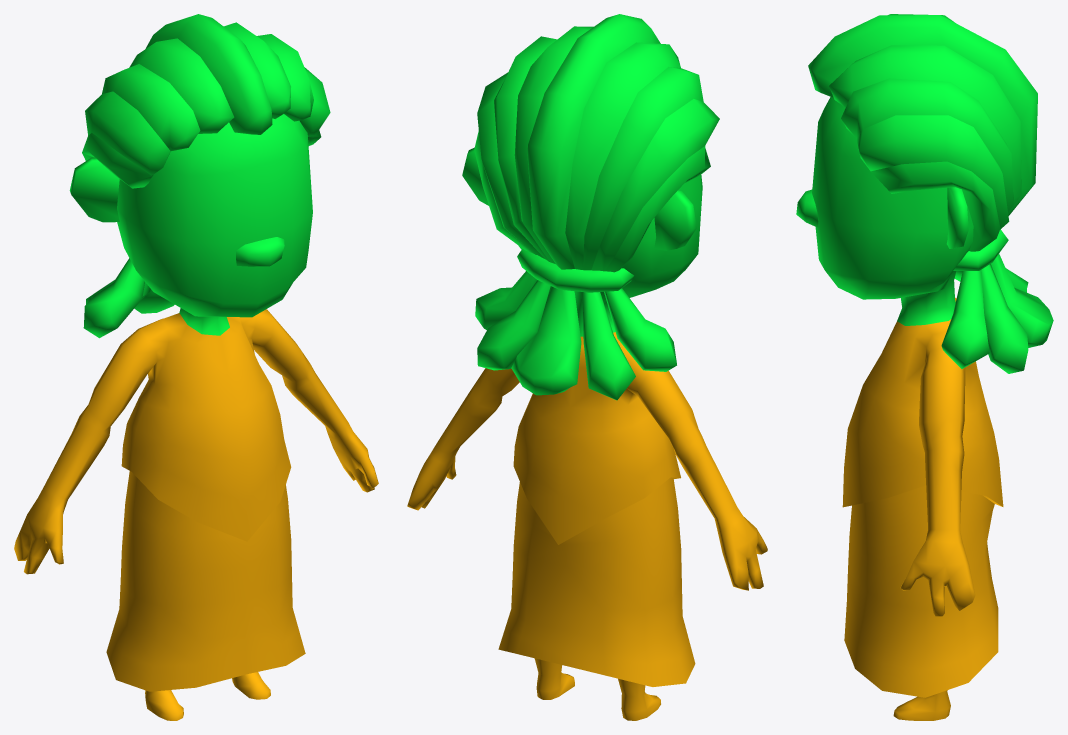
Rendered from common_people_female_2.gltf.
The picture shows the model from 3 angles, left to right: view 1: azimuth 30°, elevation 25°; view 2: azimuth 150°, elevation 25°; view 3: azimuth 270°, elevation 25°; orthographic projection.
Visible parts, largest first — view 1: common_people_female_2; view 2: common_people_female_2; view 3: common_people_female_2.
Part boxes in pixels (box(x1,y1,x2,y2)): common_people_female_2: box(14, 14, 378, 720); common_people_female_2: box(407, 14, 767, 720); common_people_female_2: box(796, 14, 1053, 720).
Size of the model in its own units: 57.12 by 106 by 36.56.
